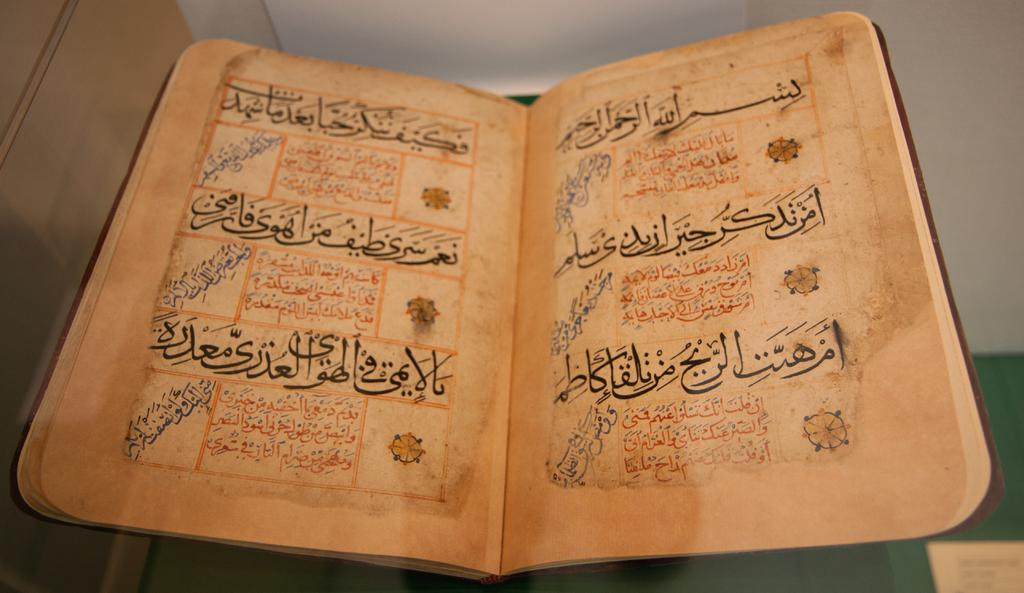book: (0, 20, 886, 593)
